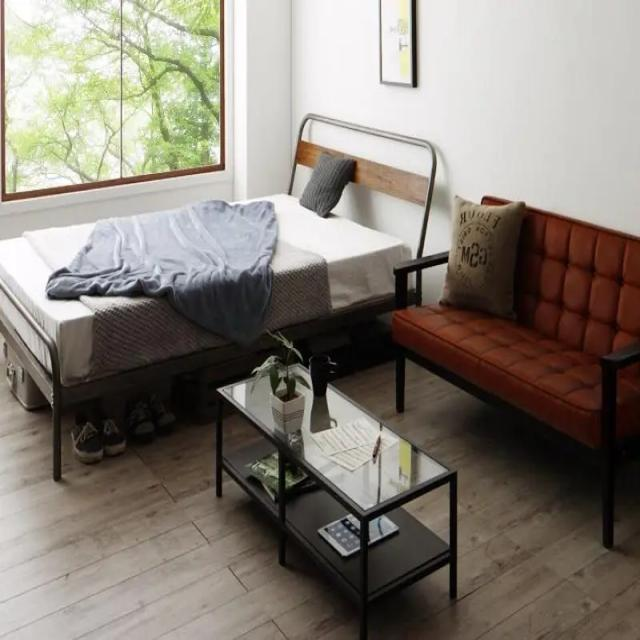bed vintage: (5, 111, 441, 421)
